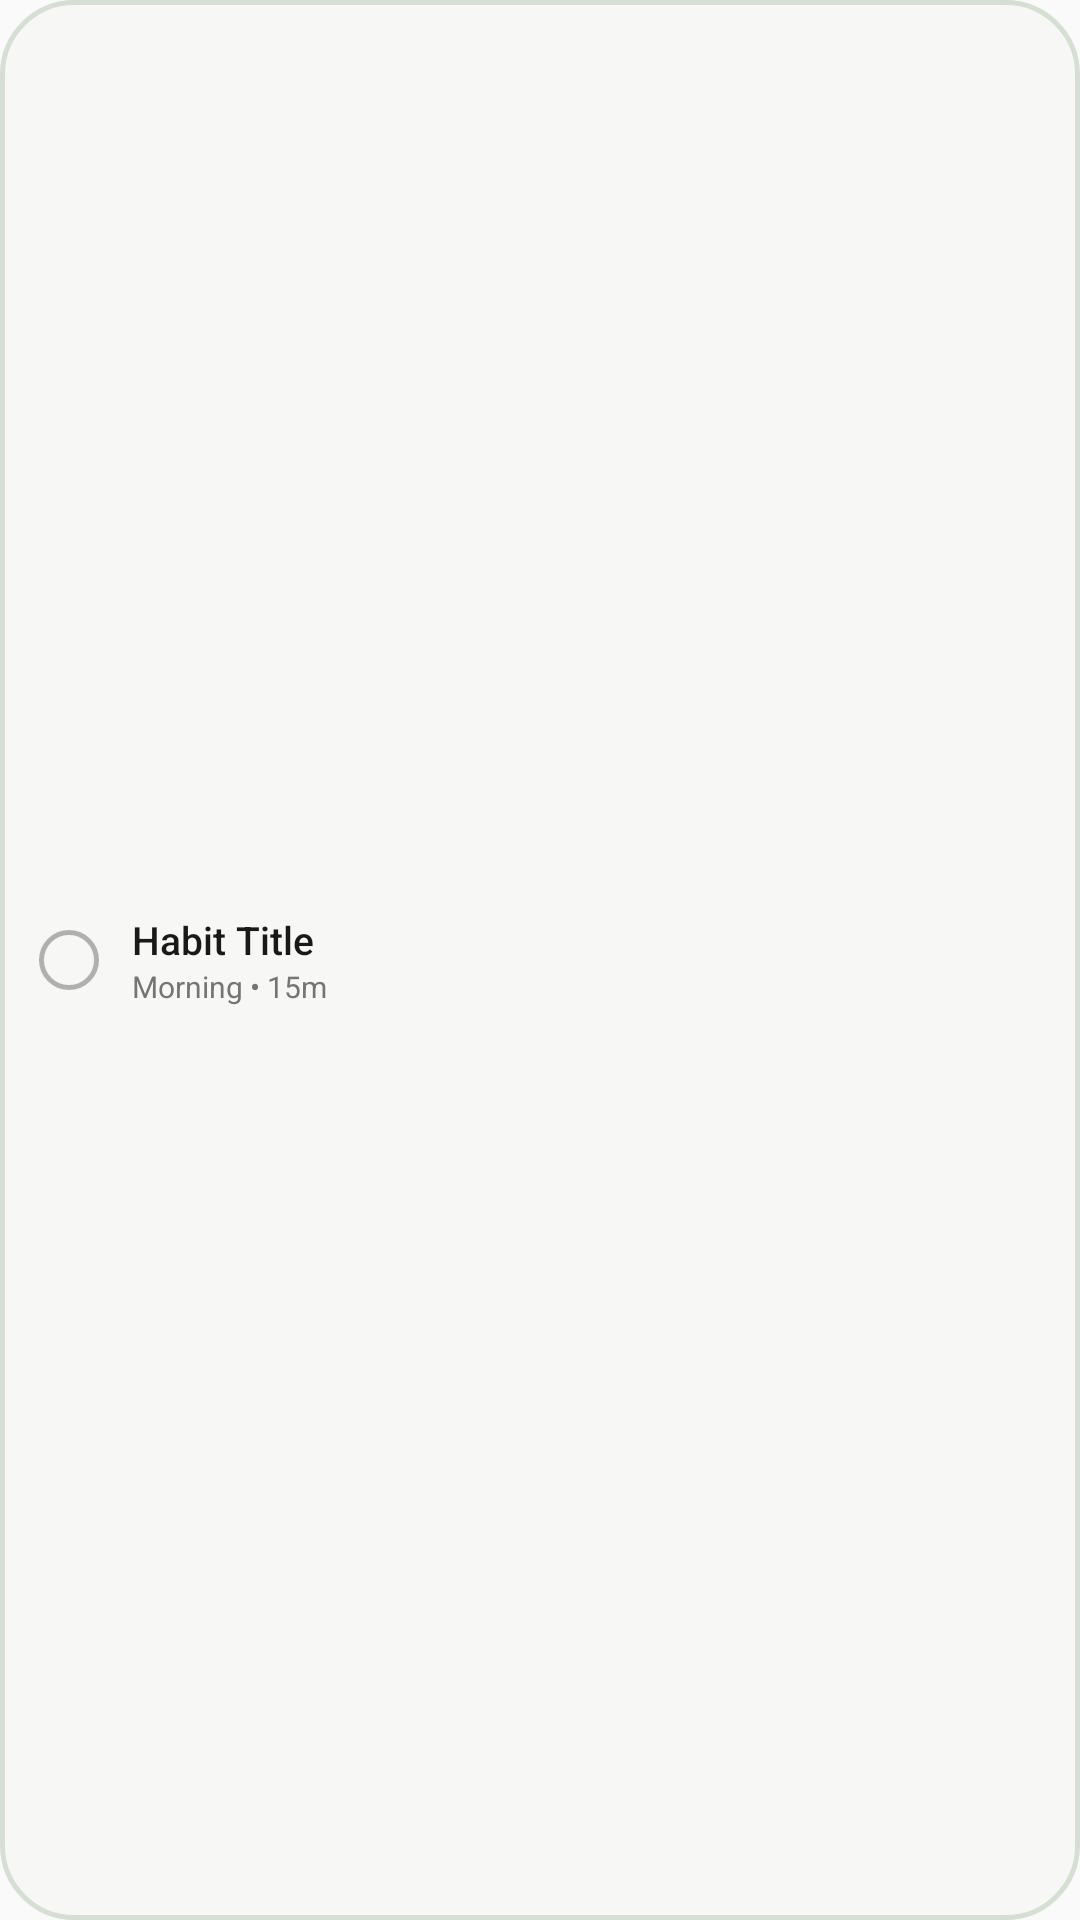

Locate icon controls on the screen. Image size 1080 × 1920, boxes as Rect(x1, y1, x2, y2).
Status: Rect(39, 930, 99, 990)
